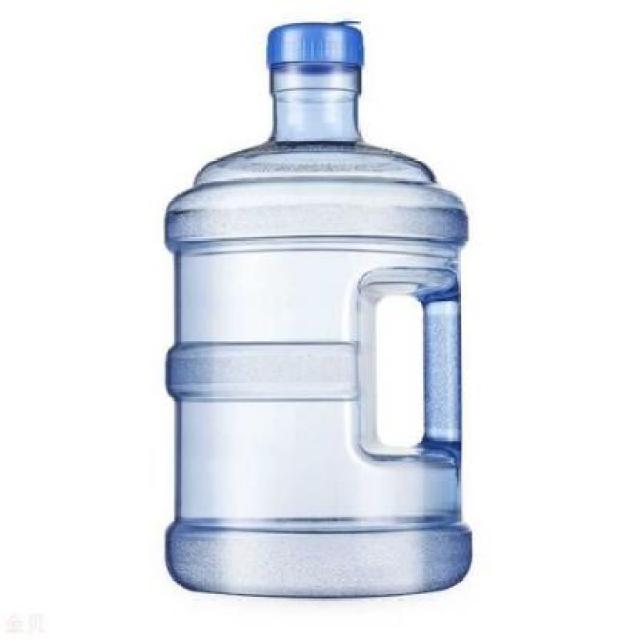coolerbottle: (158, 17, 480, 604)
